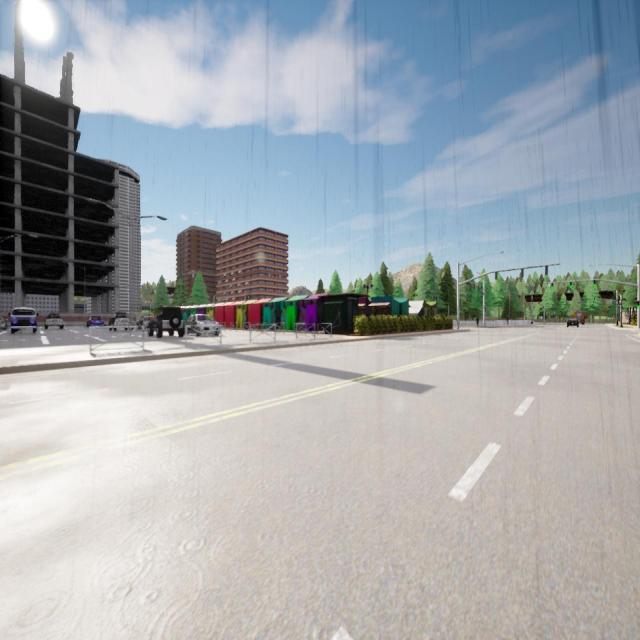Pedestrian: (476, 317, 479, 327)
Traffic_Signs: (540, 317, 543, 319)
Vehicle: (148, 308, 184, 337), (188, 314, 219, 335), (11, 307, 36, 333), (45, 313, 63, 329), (110, 314, 128, 330), (88, 316, 104, 328), (138, 316, 150, 331), (574, 312, 584, 324), (568, 319, 578, 327)
traffic_light: (545, 266, 548, 274), (637, 301, 640, 308), (522, 269, 524, 277), (495, 272, 497, 279), (570, 282, 572, 288), (551, 283, 553, 288), (593, 281, 595, 286)
